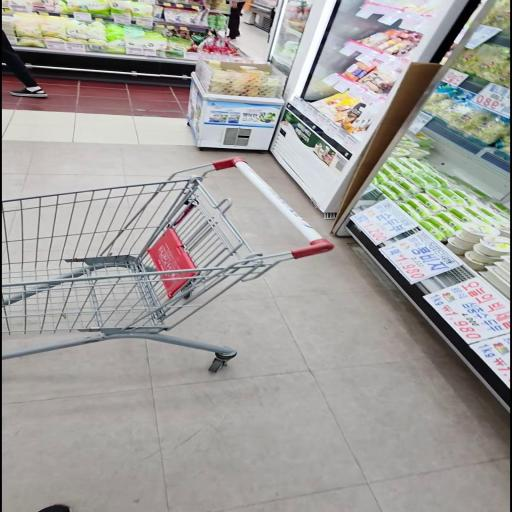empty_cart: (0, 154, 336, 375)
